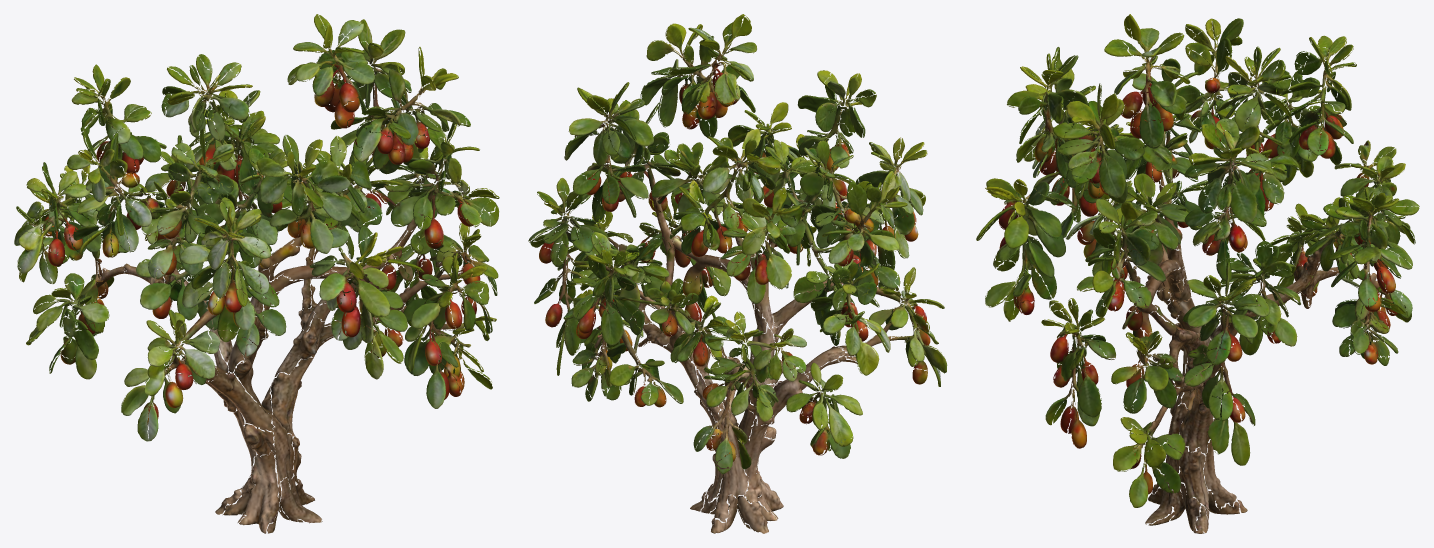
Rendered from sidr.glb.
3 renders of one model, left to right at view 1: azimuth 30°, elevation 25°; view 2: azimuth 150°, elevation 25°; view 3: azimuth 270°, elevation 25°, orthographic. The views are drawn at different scales.
Parts seen in each view (by area): view 1: tripo_node_360fa5d2-5299-472d-affb-833753c1c35f; view 2: tripo_node_360fa5d2-5299-472d-affb-833753c1c35f; view 3: tripo_node_360fa5d2-5299-472d-affb-833753c1c35f.
Part boxes in pixels (left/top/right/bottom): tripo_node_360fa5d2-5299-472d-affb-833753c1c35f: left=14, top=14, right=499, bottom=533; tripo_node_360fa5d2-5299-472d-affb-833753c1c35f: left=528, top=14, right=947, bottom=533; tripo_node_360fa5d2-5299-472d-affb-833753c1c35f: left=976, top=14, right=1419, bottom=533.
Size of the model in its own units: 0.8371 by 0.9802 by 0.7726.
Materials: 1 (1 with a texture image).
